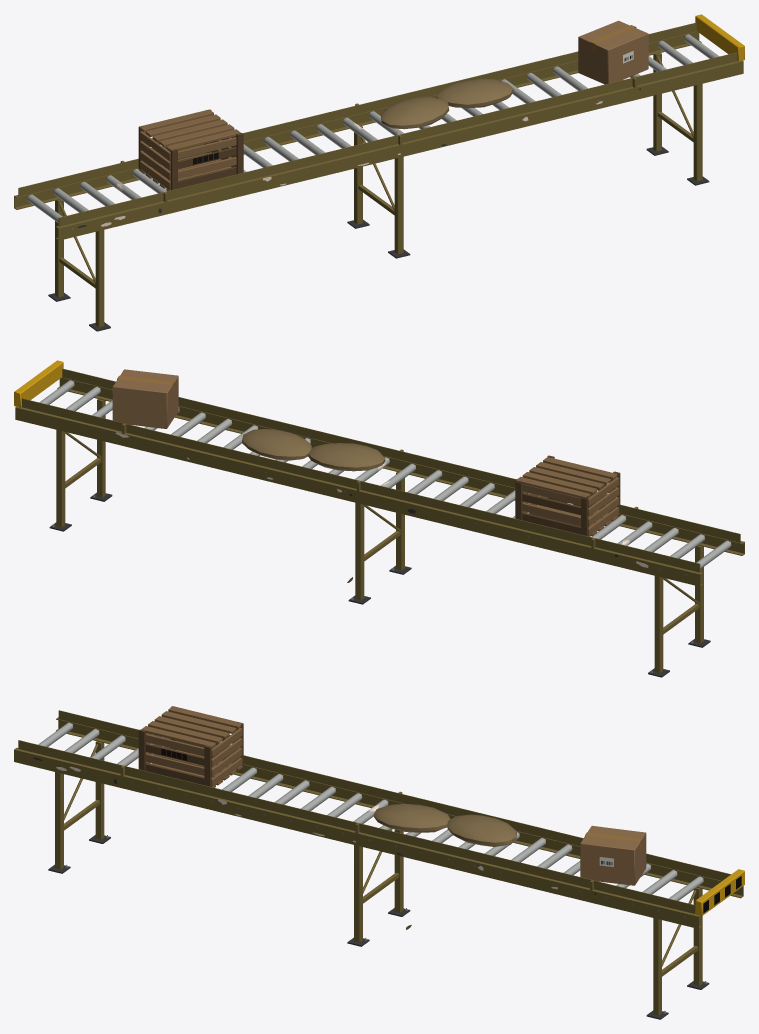
Rendered from conveyor@1.glb.
The picture shows the model from 3 angles, top to bottom: view 1: azimuth 30°, elevation 25°; view 2: azimuth 150°, elevation 25°; view 3: azimuth 330°, elevation 25°; orthographic projection.
Visible parts, largest first — view 1: teil, teil.001, teil.007, teil.010, teil.012, teil.008, teil.005, teil.004; view 2: teil, teil.001, teil.007, teil.010, teil.012, teil.008, teil.005, teil.004; view 3: teil, teil.007, teil.001, teil.010, teil.012, teil.008, teil.005, teil.004.
Boxes of the visible parts, left/top/right/bottom form: teil: left=14, top=22, right=743, bottom=327; teil.001: left=27, top=34, right=719, bottom=222; teil.007: left=139, top=109, right=240, bottom=191; teil.010: left=381, top=78, right=513, bottom=129; teil.012: left=578, top=20, right=648, bottom=84; teil.008: left=138, top=109, right=243, bottom=190; teil.005: left=695, top=14, right=744, bottom=61; teil.004: left=48, top=88, right=709, bottom=331; teil: left=15, top=368, right=744, bottom=673; teil.001: left=39, top=380, right=731, bottom=568; teil.007: left=516, top=457, right=618, bottom=536; teil.010: left=242, top=429, right=385, bottom=471; teil.012: left=112, top=369, right=178, bottom=428; teil.008: left=515, top=455, right=620, bottom=536; teil.005: left=14, top=360, right=63, bottom=407; teil.004: left=49, top=492, right=710, bottom=677; teil: left=14, top=710, right=743, bottom=1015; teil.007: left=141, top=706, right=242, bottom=787; teil.001: left=38, top=722, right=703, bottom=900; teil.010: left=373, top=803, right=516, bottom=846; teil.012: left=580, top=825, right=646, bottom=885; teil.008: left=138, top=706, right=243, bottom=786; teil.005: left=695, top=869, right=744, bottom=916; teil.004: left=33, top=757, right=709, bottom=1019.
Size of the model in its own units: 5.86 by 1.26 by 0.72.
